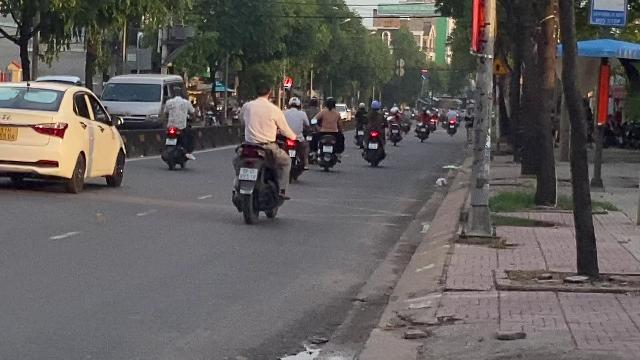licenseplate: (239, 168, 257, 180)
motorcyclist: (228, 75, 292, 222)
nohelmet: (252, 78, 272, 100)
